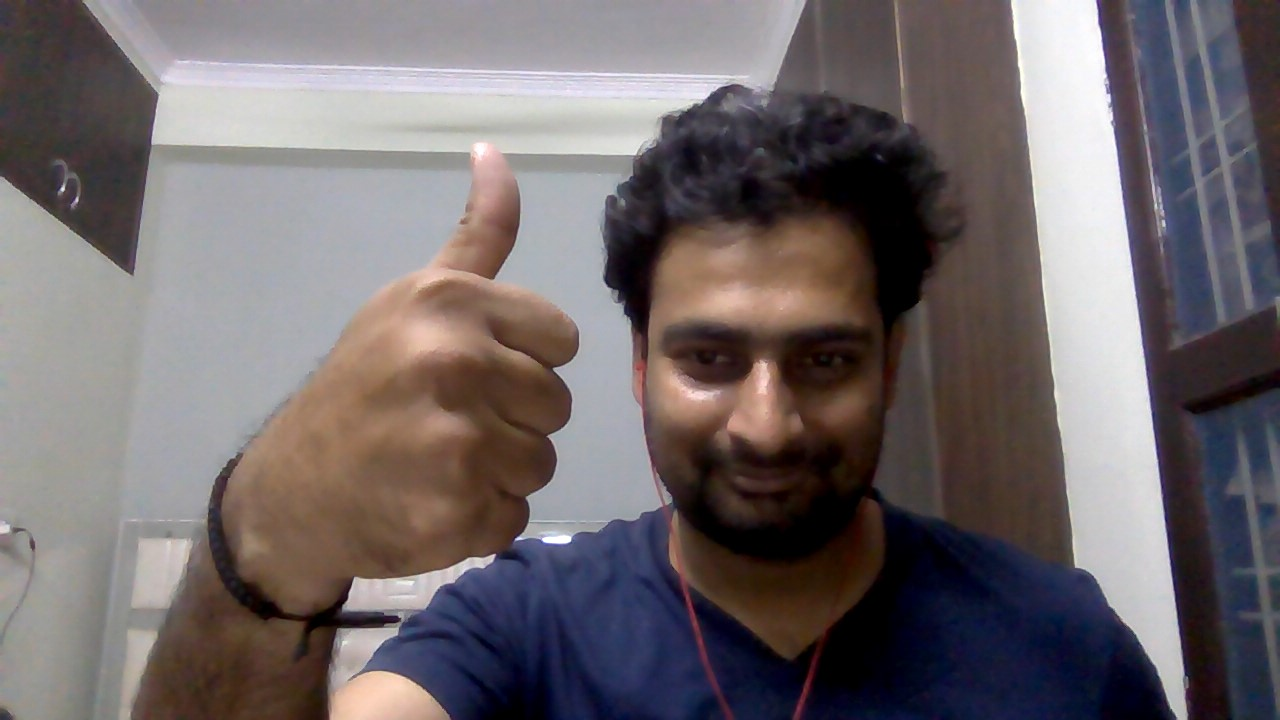Save: (254, 126, 592, 589)
